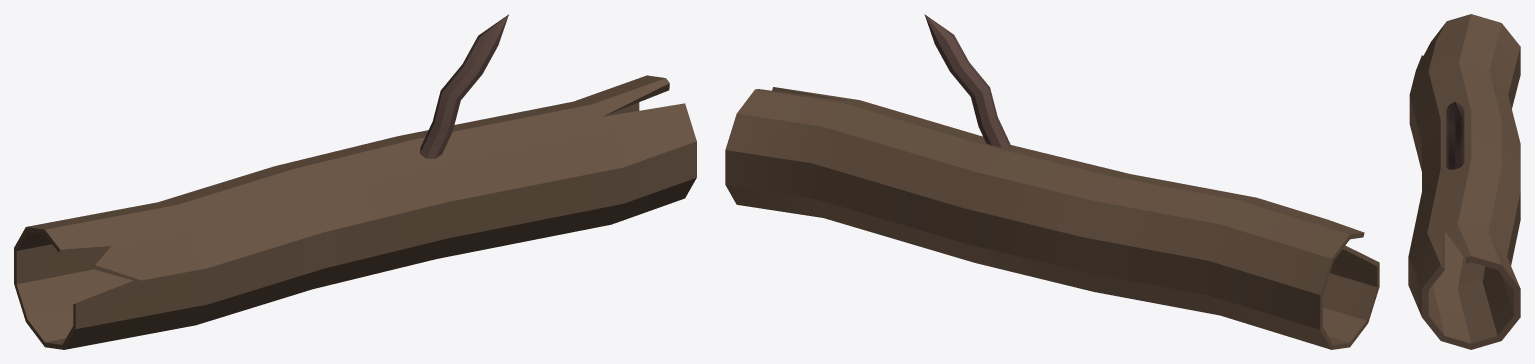
Rendered from Bois-TROU-MAYA.fbx.
3 views of the same model, side by side, from view 1: azimuth 30°, elevation 25°; view 2: azimuth 150°, elevation 25°; view 3: azimuth 270°, elevation 25° (orthographic). The views are drawn at different scales.
Visible parts, largest first — view 1: pCylinder3; view 2: pCylinder3; view 3: pCylinder3.
Boxes of the visible parts, bbox=[...] form: pCylinder3: bbox=[14, 14, 696, 349]; pCylinder3: bbox=[725, 14, 1379, 349]; pCylinder3: bbox=[1408, 14, 1520, 349].
Size of the model in its own units: 155 by 54.87 by 30.36.
